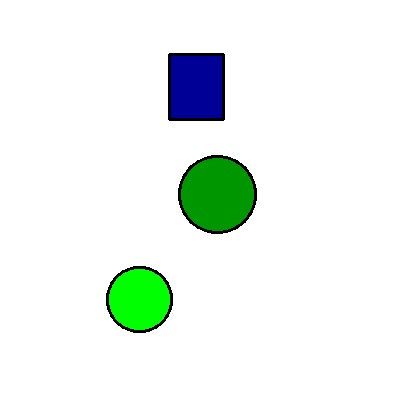circle: (179, 144, 256, 244), (107, 248, 172, 350)
rectangle: (169, 54, 223, 119)
